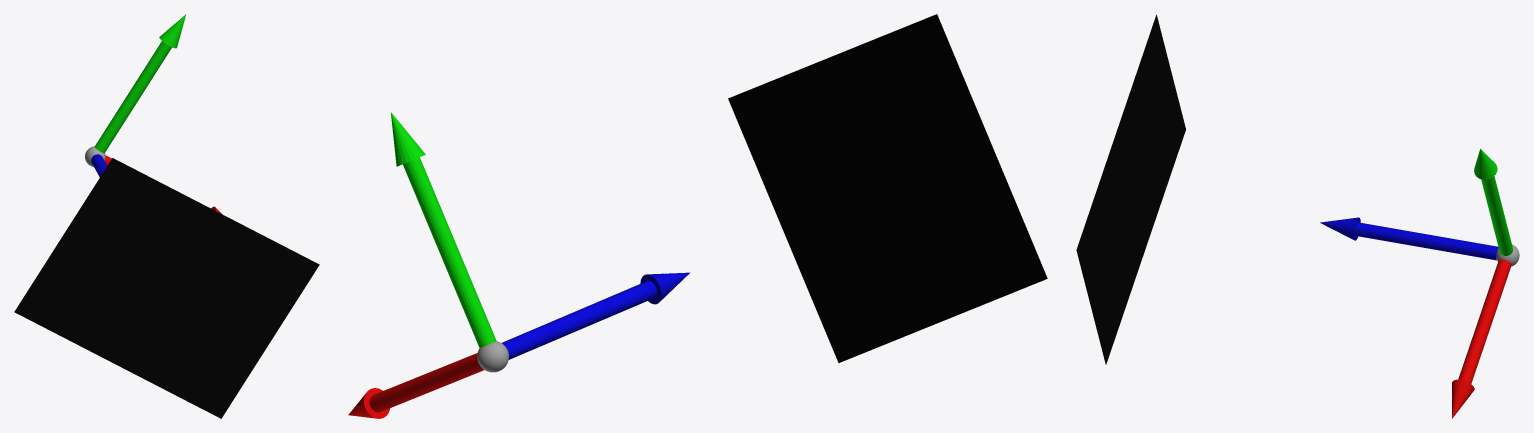
3 views of the same model, side by side, from view 1: azimuth 30°, elevation 25°; view 2: azimuth 150°, elevation 25°; view 3: azimuth 270°, elevation 25° (orthographic). The views are drawn at different scales.
Bounding box in the file's own units: 0.2836 × 0.2112 × 0.2796.
